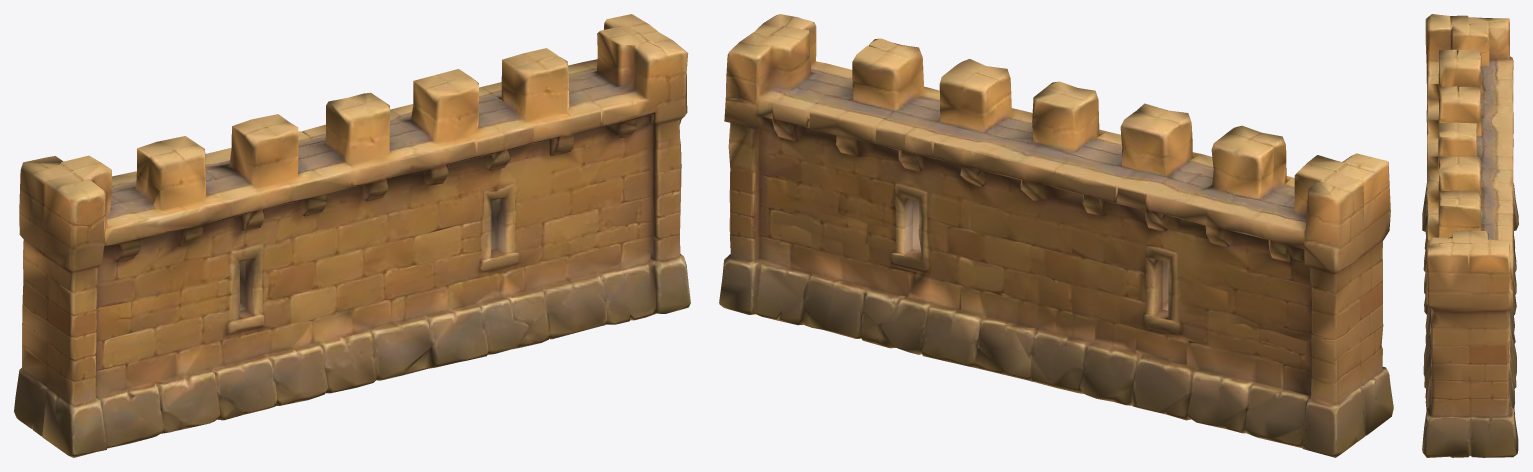
Rendered from fortress-wall.glb.
3 views of the same model, side by side, from view 1: azimuth 30°, elevation 25°; view 2: azimuth 150°, elevation 25°; view 3: azimuth 270°, elevation 25° (orthographic). The views are drawn at different scales.
Visible parts, largest first — view 1: fortress-wall; view 2: fortress-wall; view 3: fortress-wall.
Part boxes in pixels (x1=…): fortress-wall: x1=14, y1=14, x2=690, y2=457; fortress-wall: x1=719, y1=14, x2=1393, y2=457; fortress-wall: x1=1422, y1=14, x2=1518, y2=457.
Bounding box in the file's own units: 19.62 × 8 × 3.34.
Materials: 1 (1 with a texture image).
